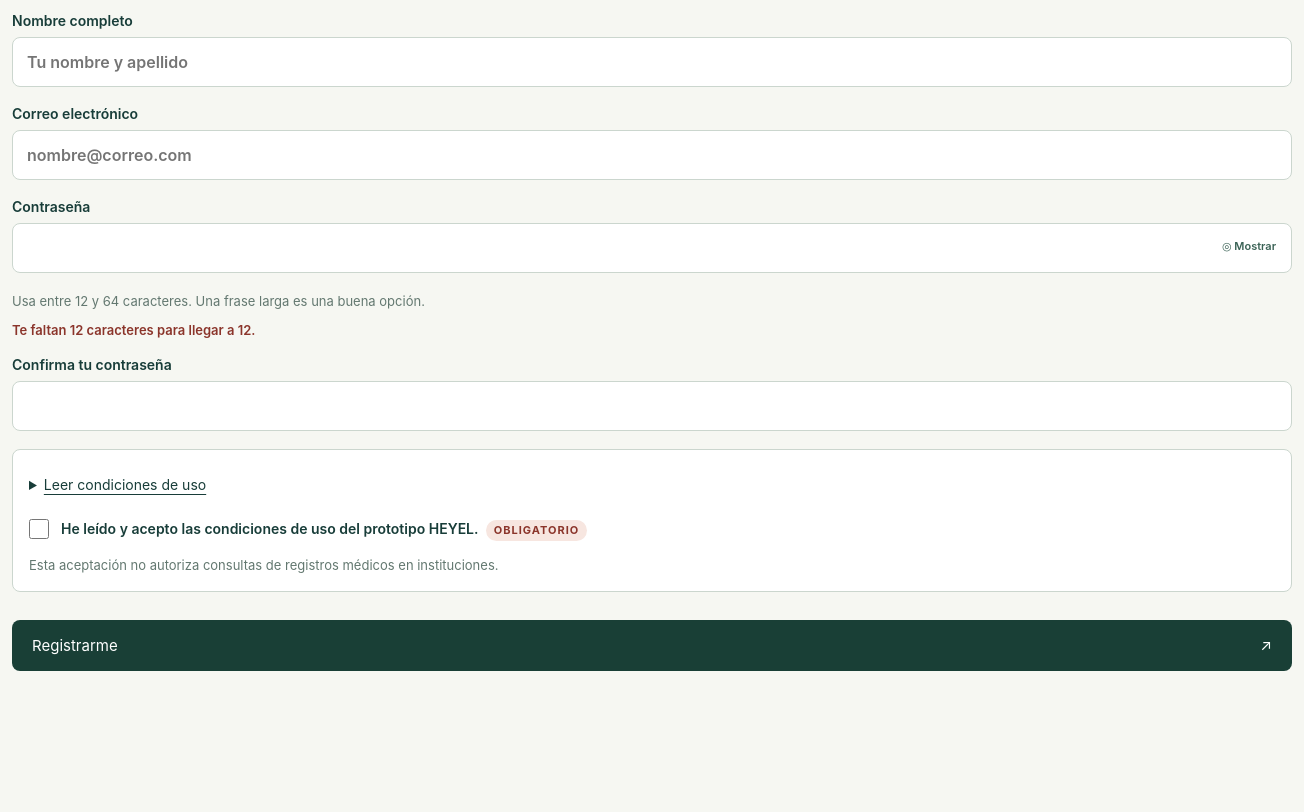
Registro con requisitos visibles (H1) › cuenta los caracteres que faltan y marca la casilla como obligatoria
Expected: the checkbox is shown, [29,519,49,539]
Expected: the text "Te faltan 12 caracteres para llegar a 12." is shown, [12,322,256,338]
Step 1. Type "Una frase s" into the password field labelled "Contraseña" → (652, 248), box [12,223,1292,273]
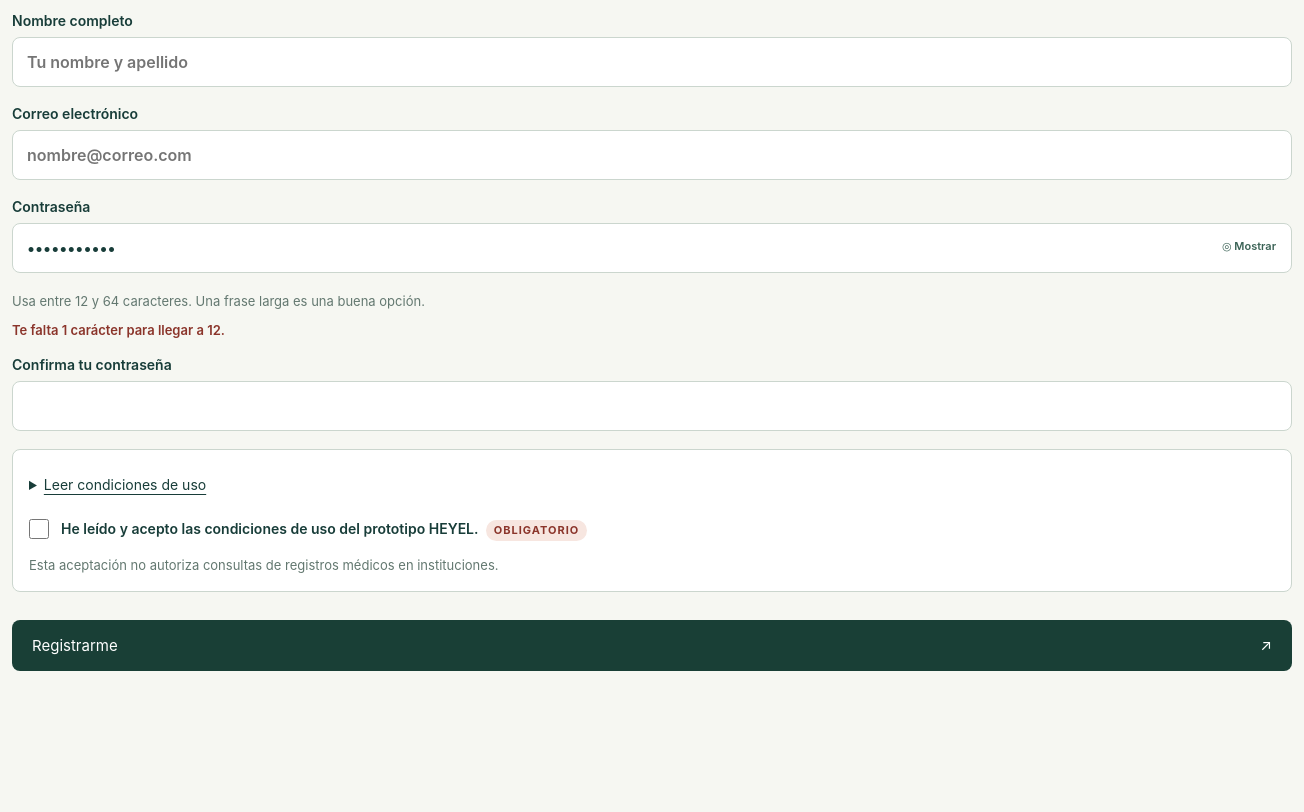
Expected: the text "Te falta 1 carácter para llegar a 12." is shown, [12,322,225,338]
Step 2. Type "Una frase segura" into the password field labelled "Contraseña" → (652, 248), box [12,223,1292,273]
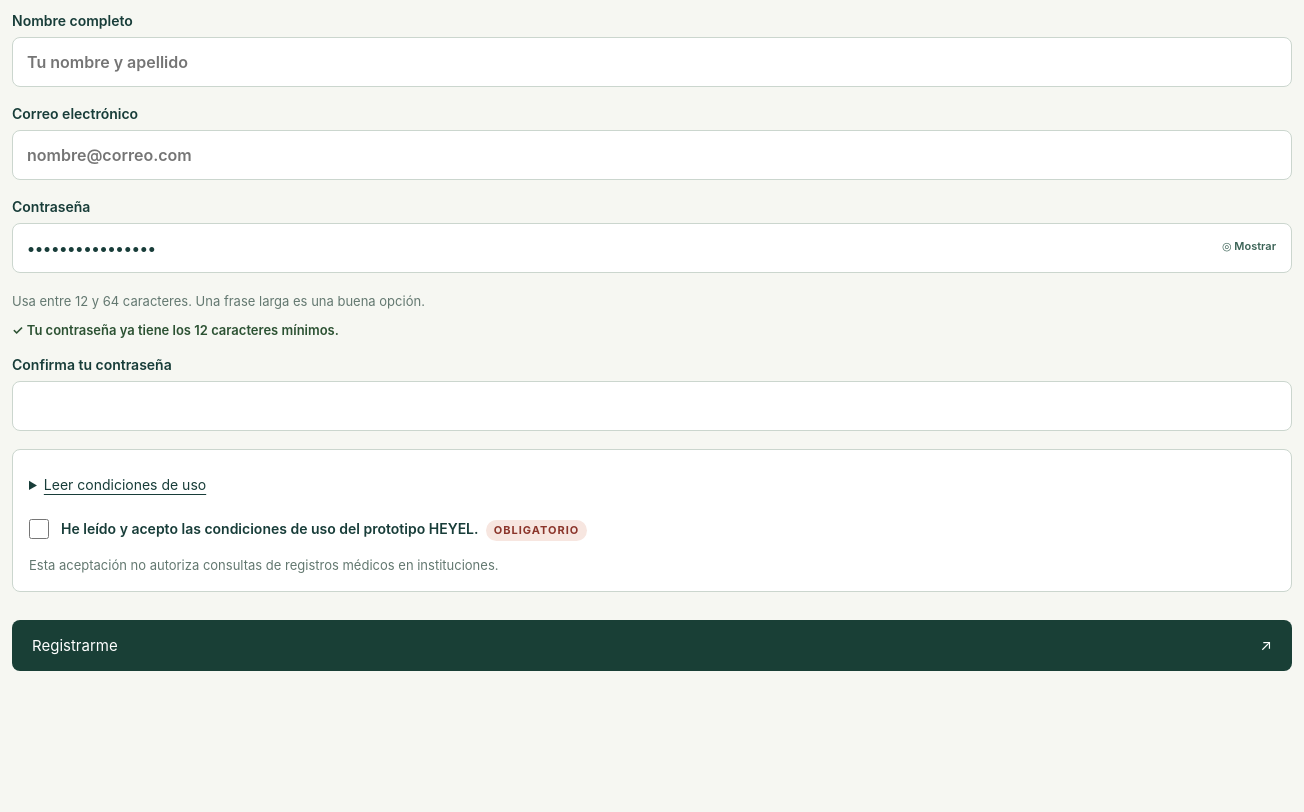
Expected: the text "Obligatorio" is shown, [486,520,587,541]
Expected: the text "✓ Tu contraseña ya tiene los 12 caracteres mínimos." is shown, [12,322,339,338]
